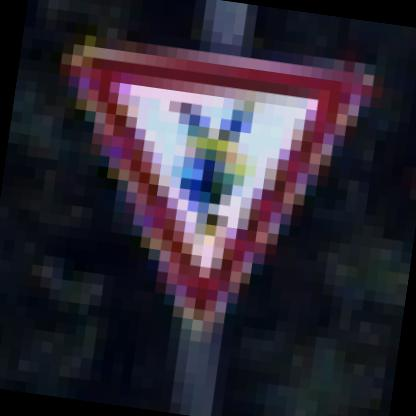crosswalk: (7, 6, 391, 372)
